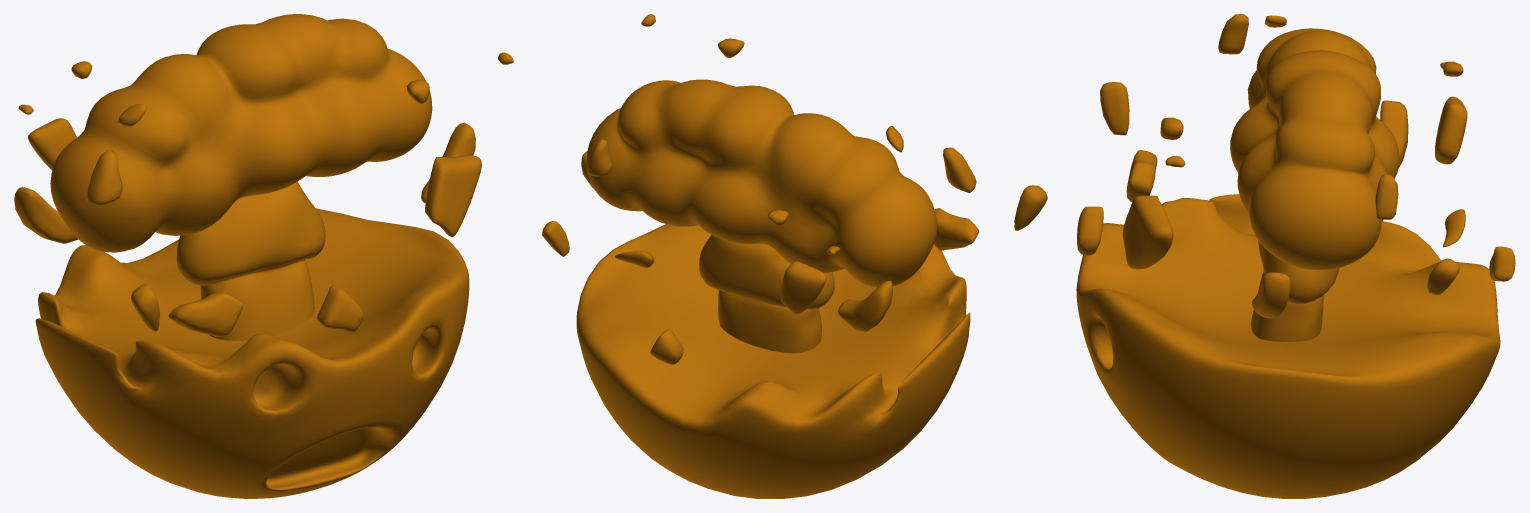
File: explosion FBX.FBX
The picture shows the model from 3 angles, left to right: view 1: azimuth 30°, elevation 25°; view 2: azimuth 150°, elevation 25°; view 3: azimuth 270°, elevation 25°; orthographic projection. The views are drawn at different scales.
Visible parts, largest first — view 1: Explosion2, Explosion3, explosion, explosion1; view 2: Explosion2, Explosion3, explosion1, explosion; view 3: Explosion2, Explosion3, explosion, explosion1.
Boxes of the visible parts, box(x1,y1,x2,y2) form: Explosion2: box(35, 208, 469, 498); Explosion3: box(50, 14, 432, 340); explosion: box(86, 52, 513, 337); explosion1: box(14, 61, 92, 243); Explosion2: box(576, 224, 970, 498); Explosion3: box(586, 79, 936, 353); explosion1: box(542, 127, 892, 364); explosion: box(581, 14, 1047, 250); Explosion2: box(1076, 194, 1500, 498); Explosion3: box(1230, 28, 1399, 341); explosion: box(1077, 14, 1290, 318); explosion1: box(1375, 61, 1515, 295).
Bounding box in the file's own units: 21.28 × 20.92 × 19.38.
